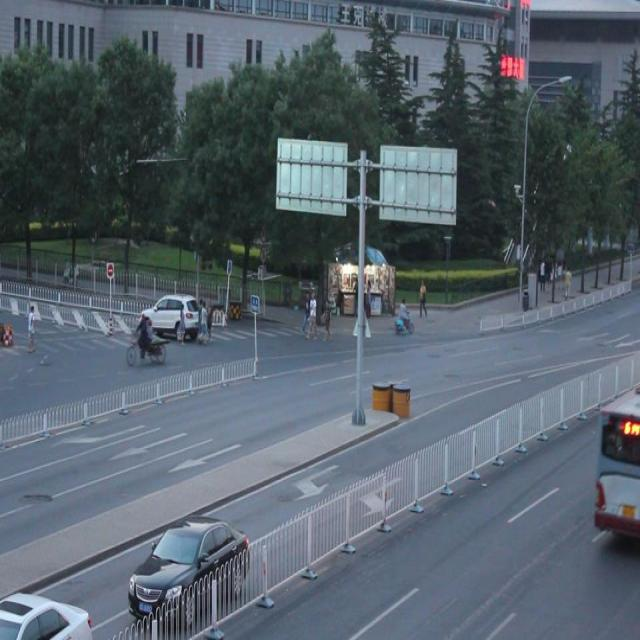car: (127, 516, 250, 628), (1, 589, 91, 640), (140, 294, 200, 338)
van: (592, 389, 640, 540)
